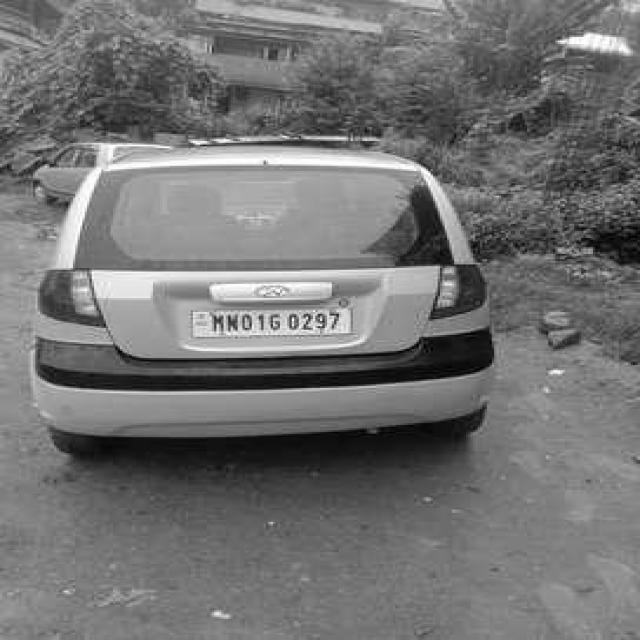car: (29, 144, 496, 458)
license-plate: (186, 307, 355, 338)
